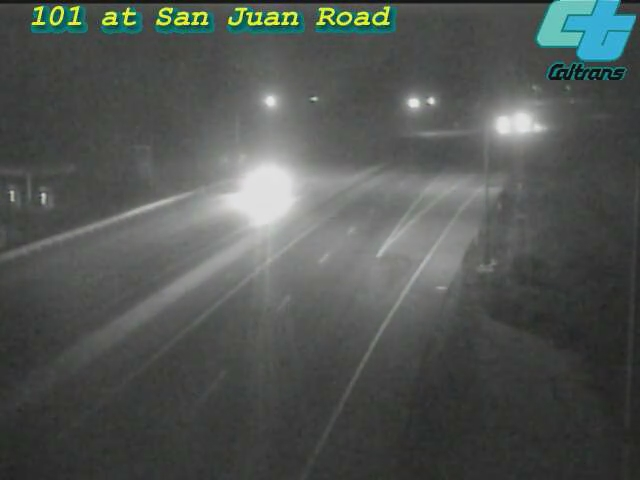vehicle: (223, 144, 303, 224), (509, 105, 559, 155), (476, 102, 526, 152), (499, 97, 549, 147)
